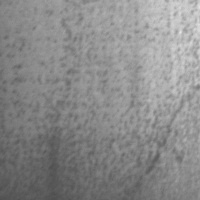pitted_surface: (5, 13, 192, 197)
